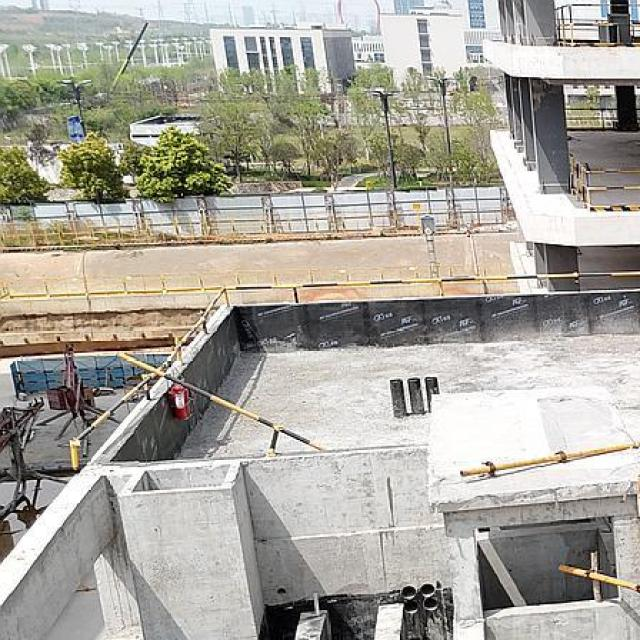edge_guardrail: (67, 269, 640, 471), (568, 155, 640, 212), (554, 3, 639, 48), (564, 108, 619, 129)
